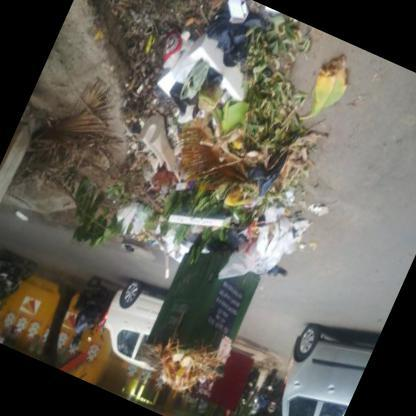Garbage: (60, 0, 397, 304), (212, 196, 315, 300), (220, 202, 302, 300), (292, 47, 366, 136), (229, 148, 294, 214), (146, 6, 202, 74), (167, 50, 212, 106), (193, 67, 233, 127), (115, 204, 158, 250), (210, 0, 259, 37), (142, 158, 184, 200), (154, 227, 192, 263), (302, 190, 332, 224)
